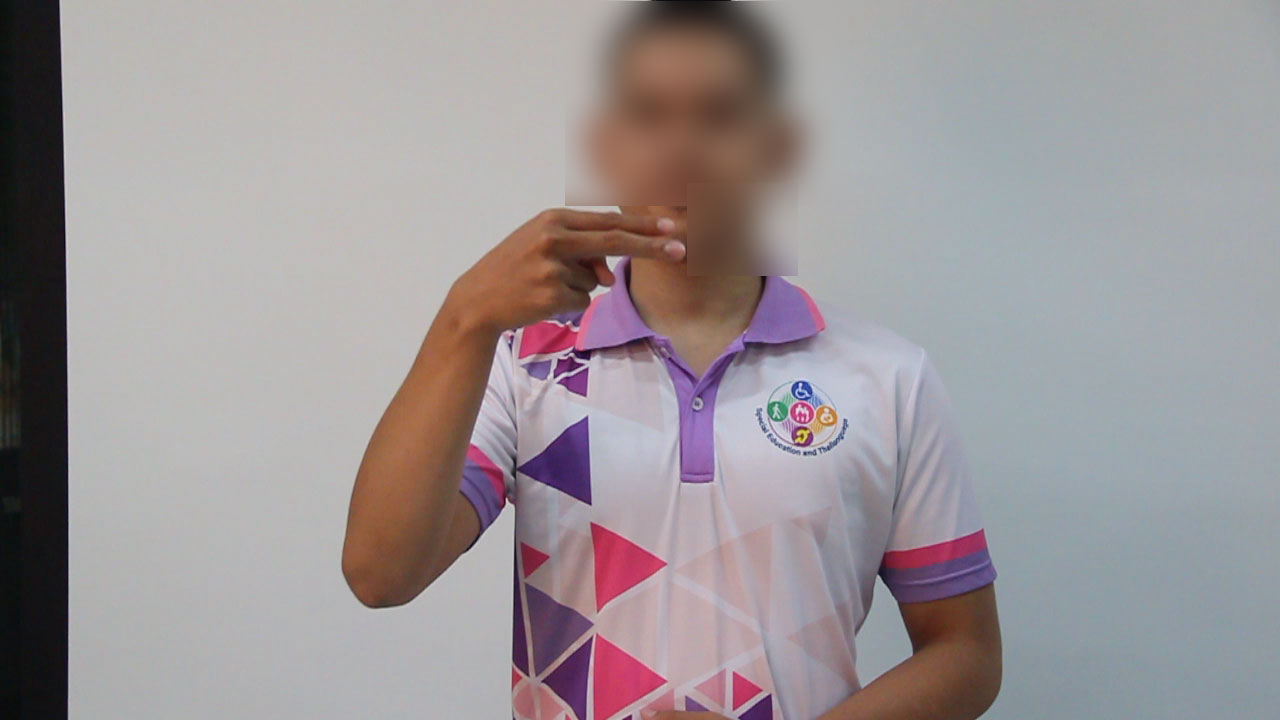hor: (454, 202, 697, 338)
